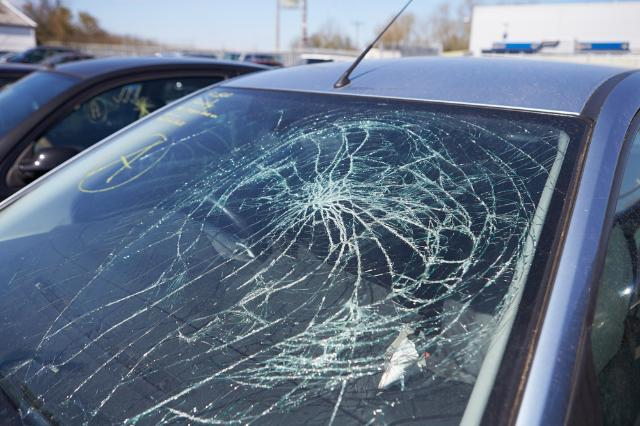glass shatter: (0, 87, 585, 426)
